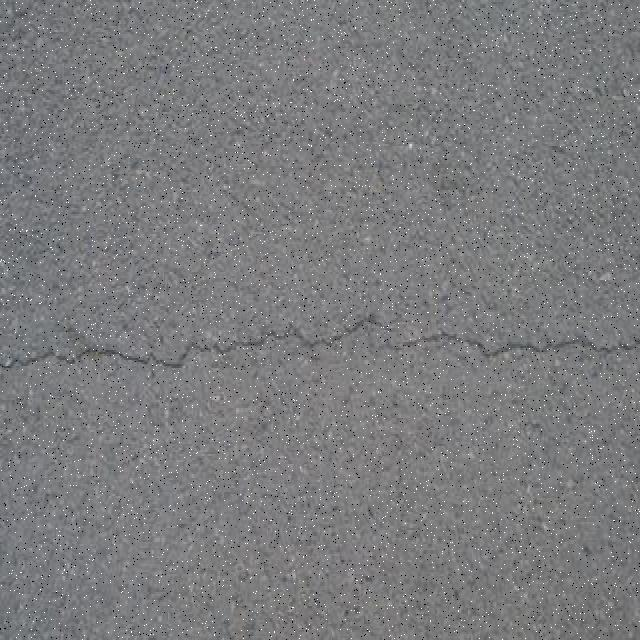minor crack: (44, 343, 178, 367), (192, 336, 256, 359), (482, 337, 559, 353), (153, 354, 189, 367)
moderate crack: (7, 314, 640, 371), (542, 332, 634, 355)
